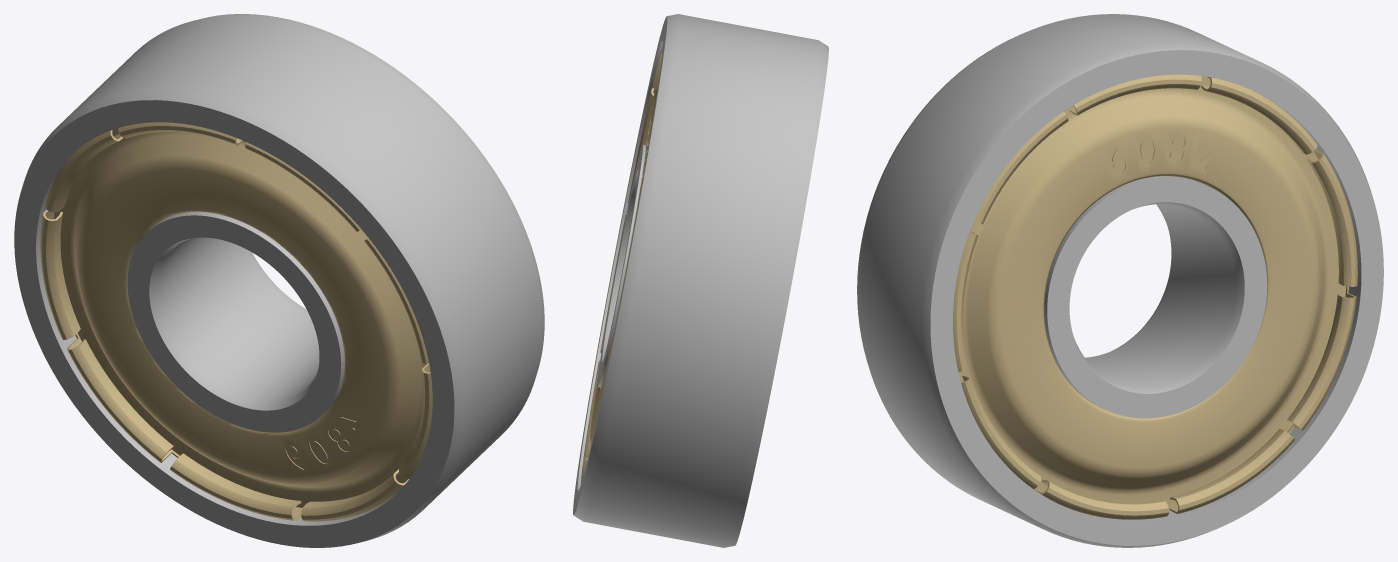
File: roulement.glb
3 renders of one model, left to right at view 1: azimuth 30°, elevation 25°; view 2: azimuth 150°, elevation 25°; view 3: azimuth 270°, elevation 25°, orthographic. The views are drawn at different scales.
Parts seen in each view (by area): view 1: camasa.002_Material_0, camasa.003_Material.005_0; view 2: camasa.002_Material_0, camasa.003_Material.005_0; view 3: camasa.002_Material_0, camasa.003_Material.005_0.
Boxes of the visible parts, <box> form: camasa.002_Material_0: <box>14,14,544,547</box>; camasa.003_Material.005_0: <box>40,122,432,521</box>; camasa.002_Material_0: <box>573,14,828,547</box>; camasa.003_Material.005_0: <box>581,48,662,483</box>; camasa.002_Material_0: <box>857,14,1383,547</box>; camasa.003_Material.005_0: <box>953,74,1357,519</box>.
Size of the model in its own units: 0.0874 by 0.12 by 0.1187.
